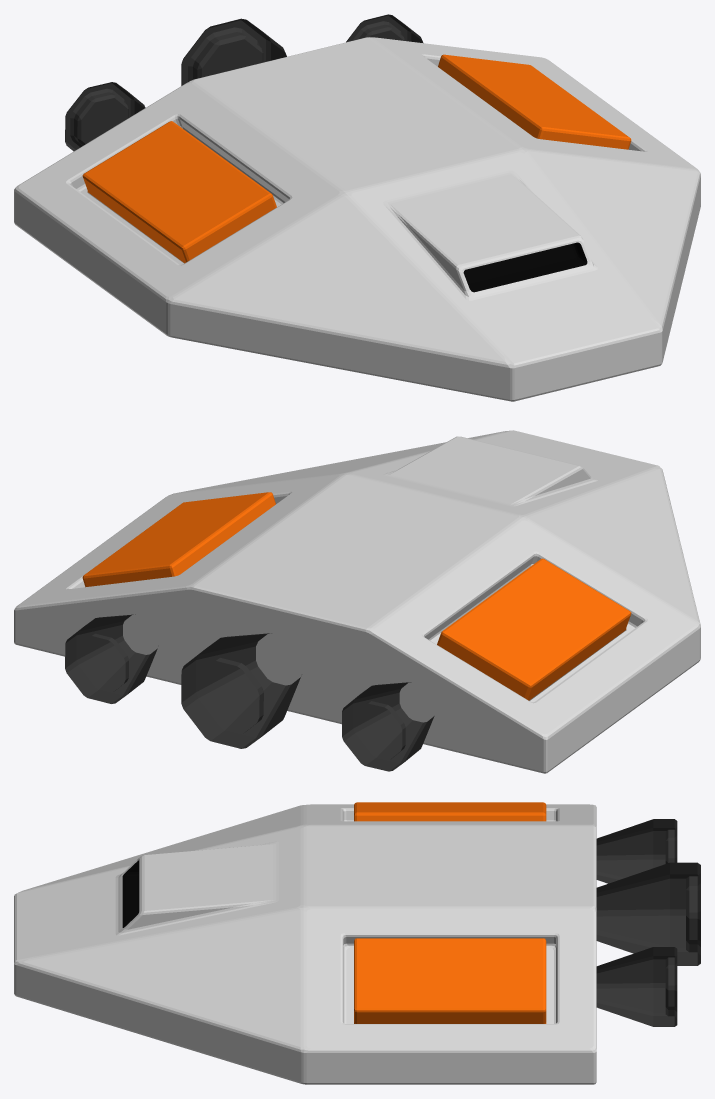
Rendered from rocket.glb.
3 views of the same model, one above another, from view 1: azimuth 30°, elevation 25°; view 2: azimuth 150°, elevation 25°; view 3: azimuth 270°, elevation 25° (orthographic). The views are drawn at different scales.
Parts seen in each view (by area): view 1: Plane, Circle.001, Circle; view 2: Plane, Circle.001, Circle; view 3: Plane, Circle.001, Circle.
Part boxes in pixels (x1=…): Plane: x1=14, y1=37, x2=700, y2=401; Circle.001: x1=65, y1=14, x2=423, y2=151; Circle: x1=181, y1=18, x2=286, y2=85; Plane: x1=14, y1=430, x2=700, y2=773; Circle.001: x1=65, y1=614, x2=434, y2=771; Circle: x1=181, y1=633, x2=300, y2=748; Plane: x1=14, y1=802, x2=596, y2=1084; Circle.001: x1=596, y1=819, x2=677, y2=1026; Circle: x1=596, y1=862, x2=700, y2=965.
Size of the model in its own units: 2 by 0.3656 by 2.36.
